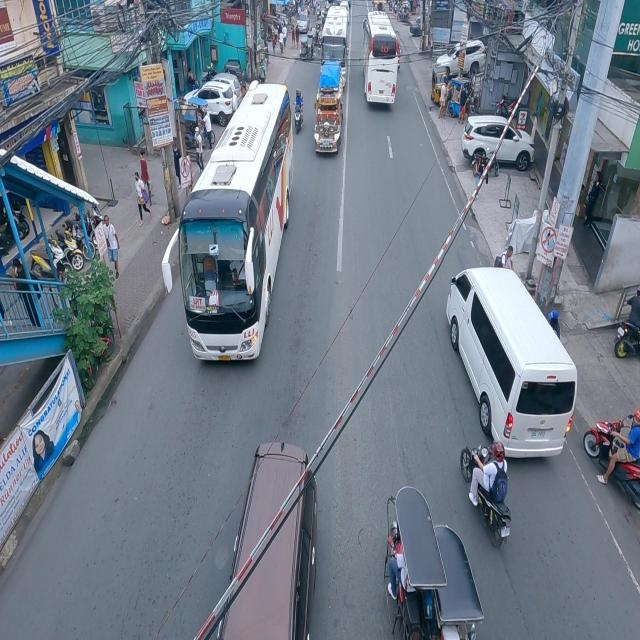Van: (443, 262, 578, 460)
